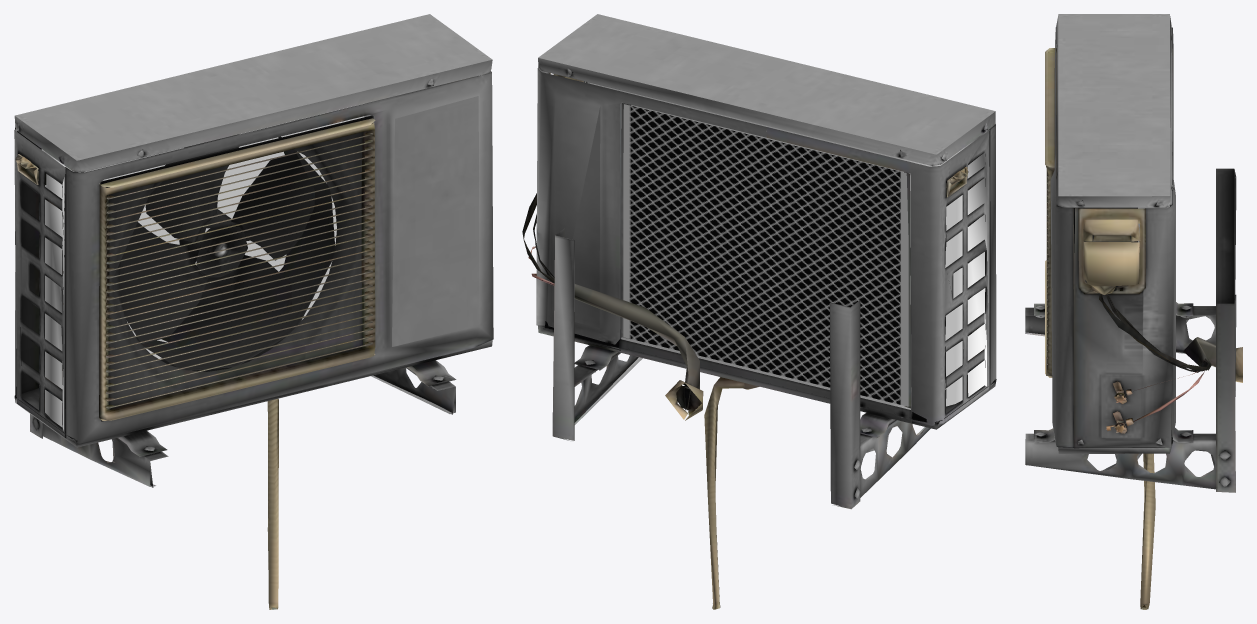
Rendered from exterior_aircon_unit_1k.gltf.
3 views of the same model, side by side, from view 1: azimuth 30°, elevation 25°; view 2: azimuth 150°, elevation 25°; view 3: azimuth 270°, elevation 25° (orthographic). The views are drawn at different scales.
Parts seen in each view (by area): view 1: exterior_aircon_unit_LOD0; view 2: exterior_aircon_unit_LOD0; view 3: exterior_aircon_unit_LOD0.
Part boxes in pixels (<box>): exterior_aircon_unit_LOD0: <box>14,14,493,609</box>; exterior_aircon_unit_LOD0: <box>522,14,996,609</box>; exterior_aircon_unit_LOD0: <box>1025,14,1242,609</box>.
Size of what is drawn, in the model's own units: 0.8 by 0.927 by 0.3748.
Materials: 2 (2 with a texture image).
